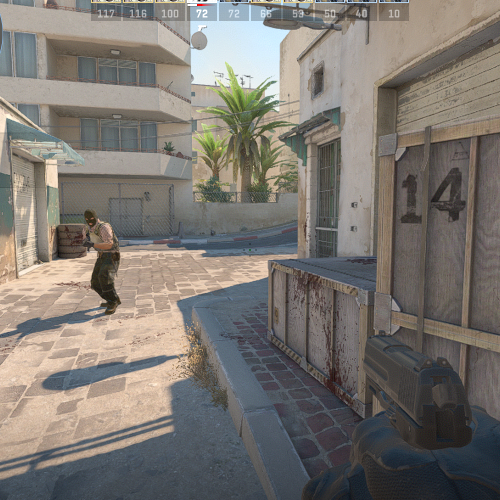t_body: (81, 209, 122, 315)
t_head: (82, 209, 99, 228)
